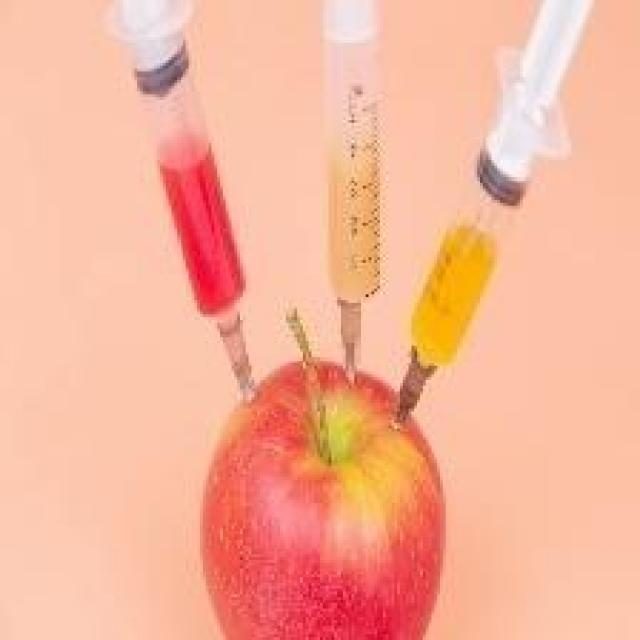syringe: (100, 2, 270, 432), (420, 13, 568, 434), (280, 0, 391, 397)
